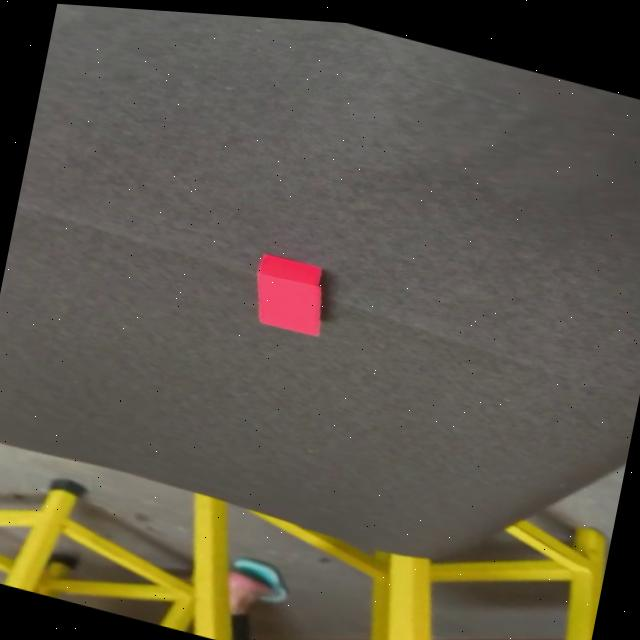red block: (246, 250, 334, 340)
